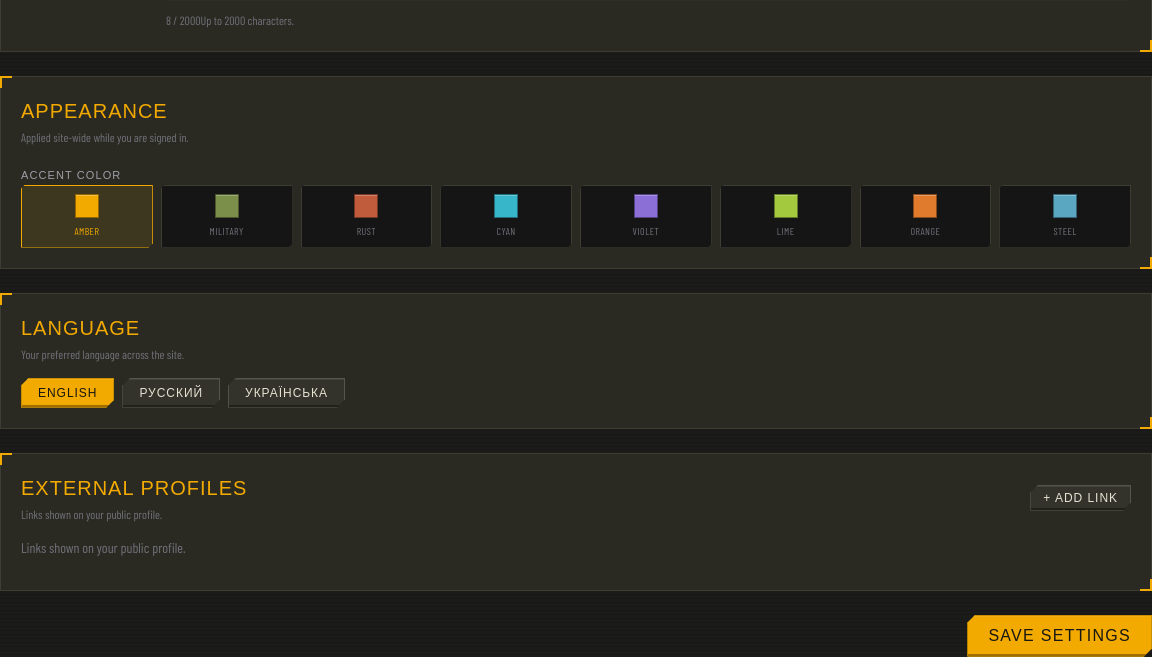
Test: SettingsForm › shows the server error and debug block on failure
(page scrolled)
Click the button "Save settings". click: click(1060, 636)
box: [967, 614, 1151, 656]
(page scrolled)
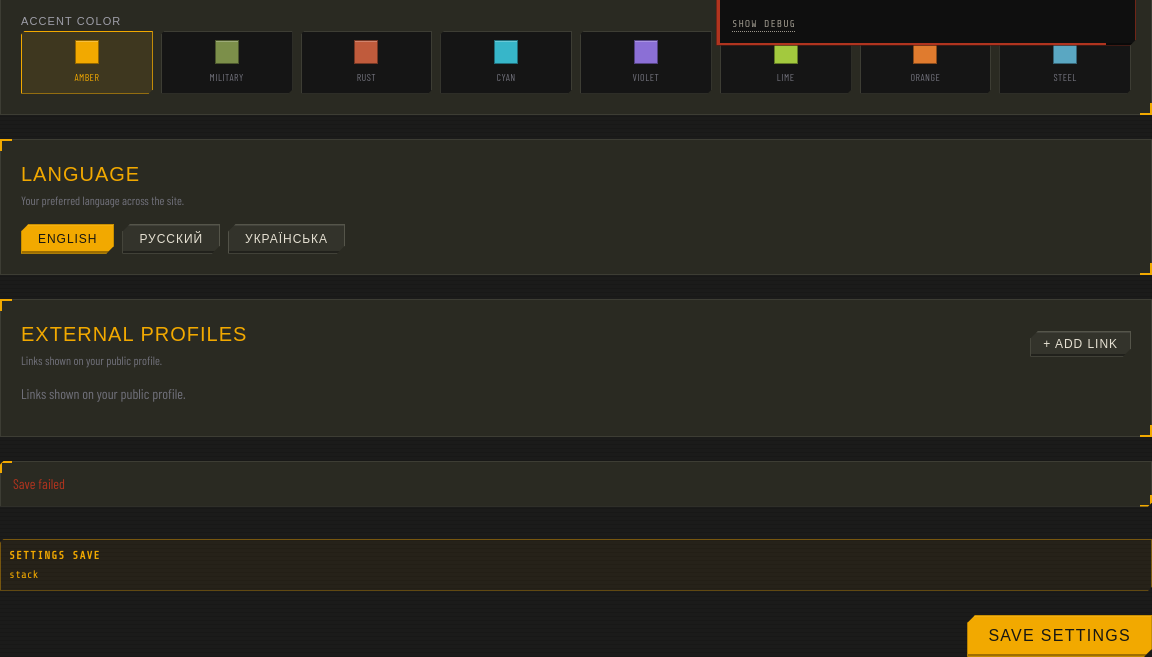
expect the text "Save failed" is shown: met, box [0, 460, 1151, 506]
